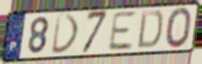7: (80, 9, 110, 56)
8: (27, 16, 50, 55)
D: (50, 14, 81, 56), (136, 9, 165, 50)
E: (107, 10, 138, 52)
O: (165, 6, 193, 51)
